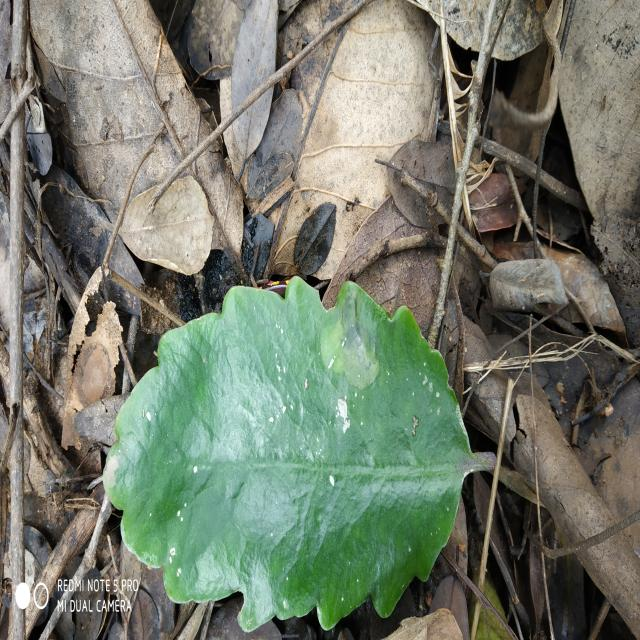defectedspinach: (321, 284, 380, 407)
spinach: (104, 278, 495, 631)
